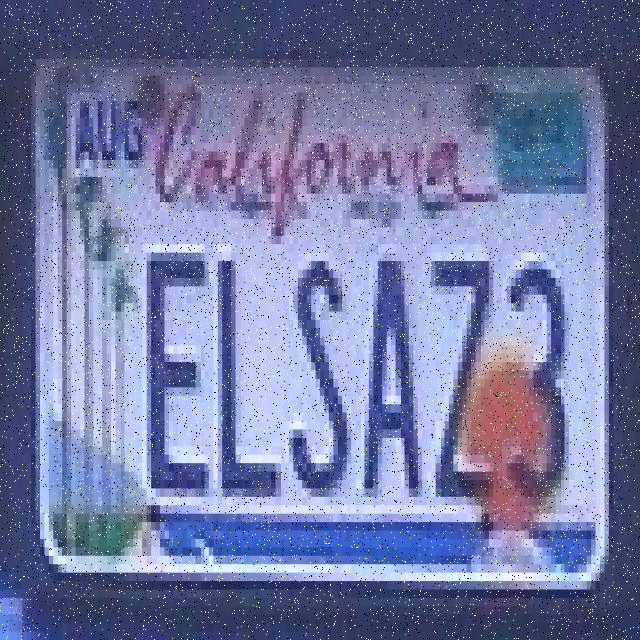licenseplate: (13, 17, 621, 625)
